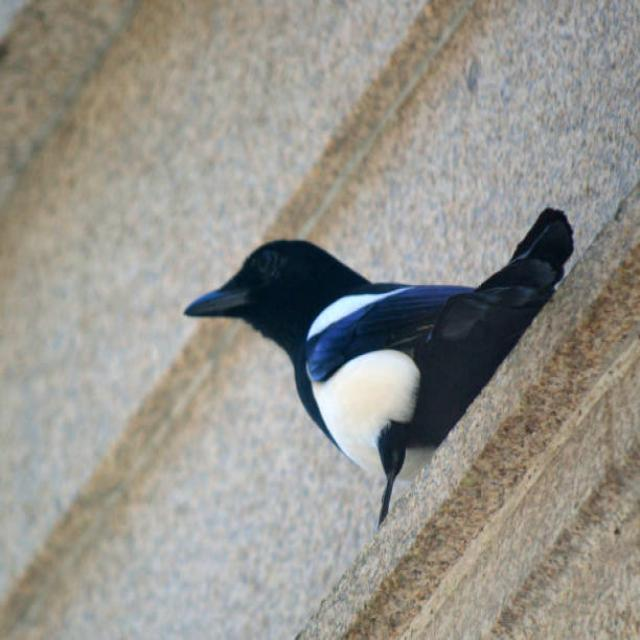Magpie: (176, 206, 577, 519)
